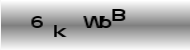6: (30, 14, 43, 28)
B: (111, 8, 126, 21)
W: (82, 14, 105, 28)
b: (99, 14, 112, 28)
k: (52, 23, 66, 39)
